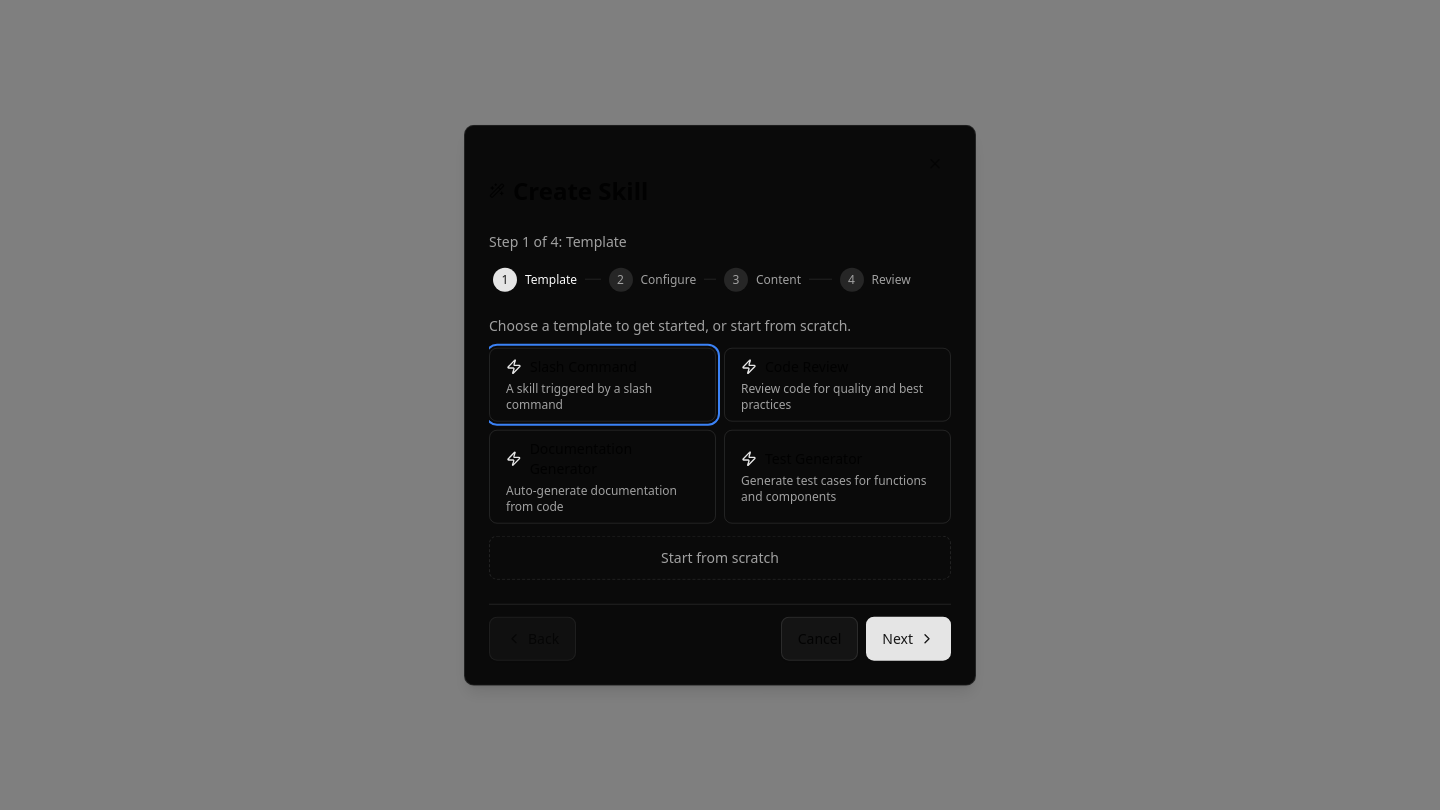
Test case: SkillCreationWizard › should show Create Skill button on review step
Note: Navigate to review
Step 1. Click the button "Start from scratch" → click(720, 557), box [489, 535, 951, 579]
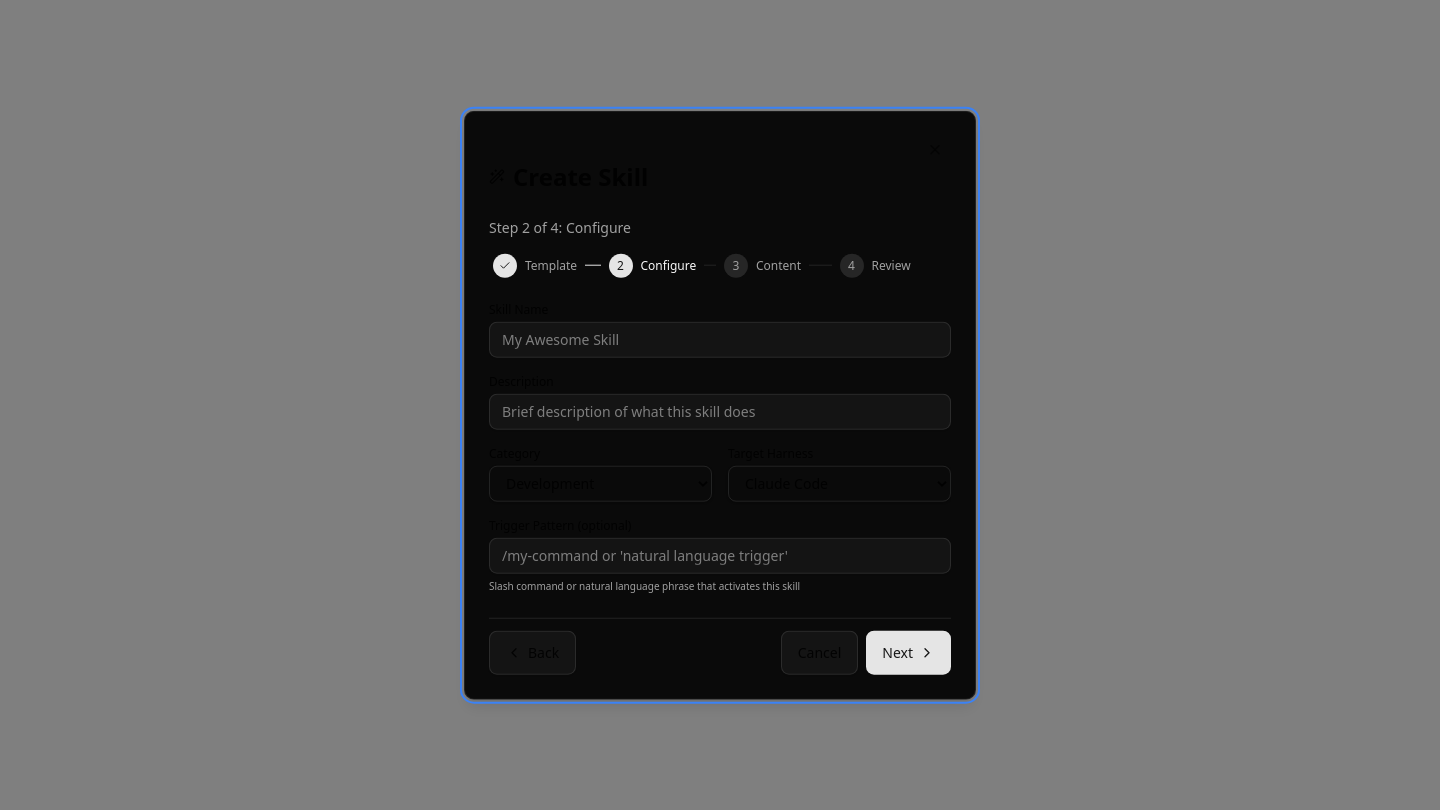
Check: the field labelled "Skill Name" is shown
Step 2. Type "Test" into the field labelled "Skill Name" → (720, 339), box [489, 321, 951, 357]
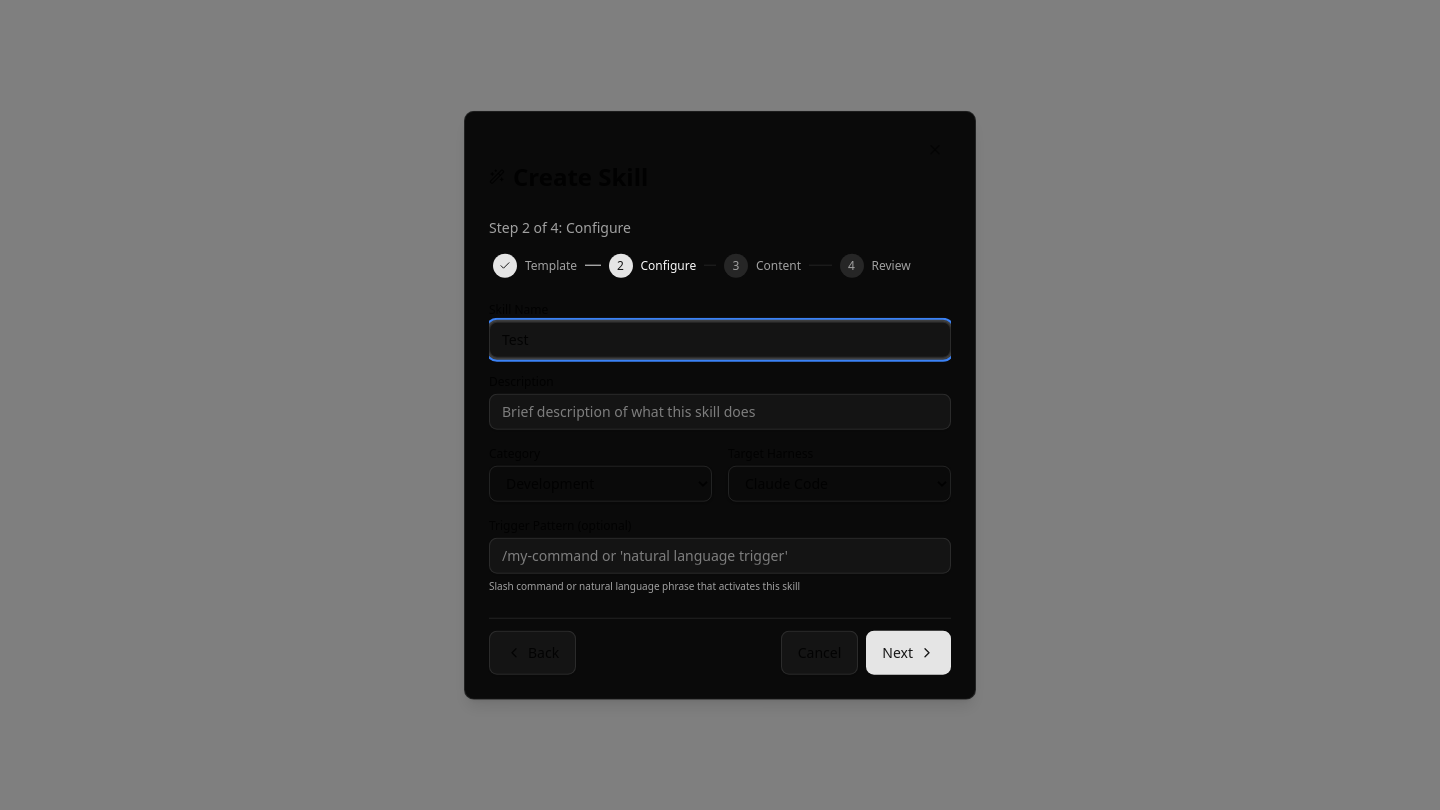
Step 3. Click the button "Next" → click(909, 652), box [866, 630, 951, 674]
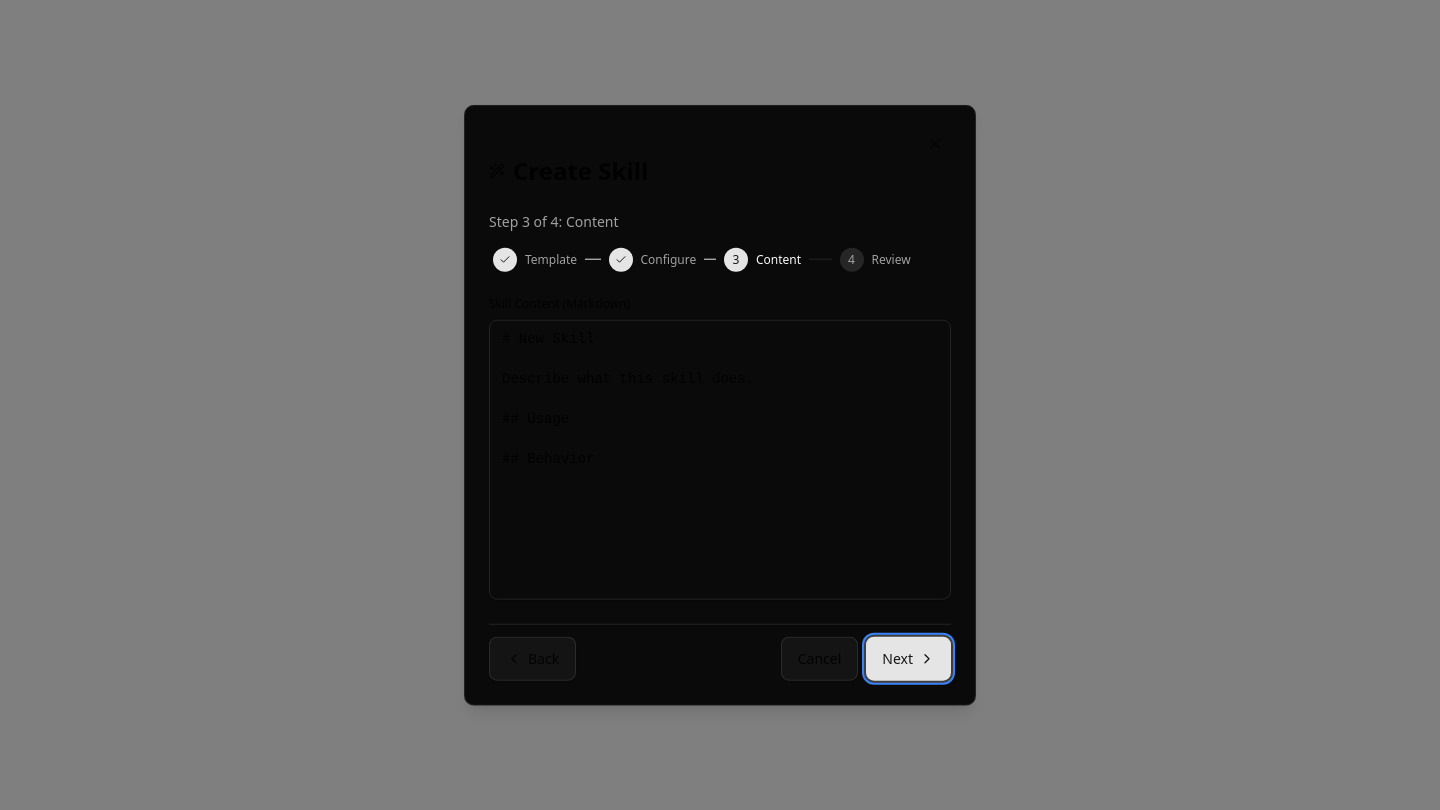
Check: the text box labelled "Skill Content (Markdown)" is shown, box [489, 319, 951, 599]
Step 4. Click the button "Next" → click(909, 658), box [866, 636, 951, 680]
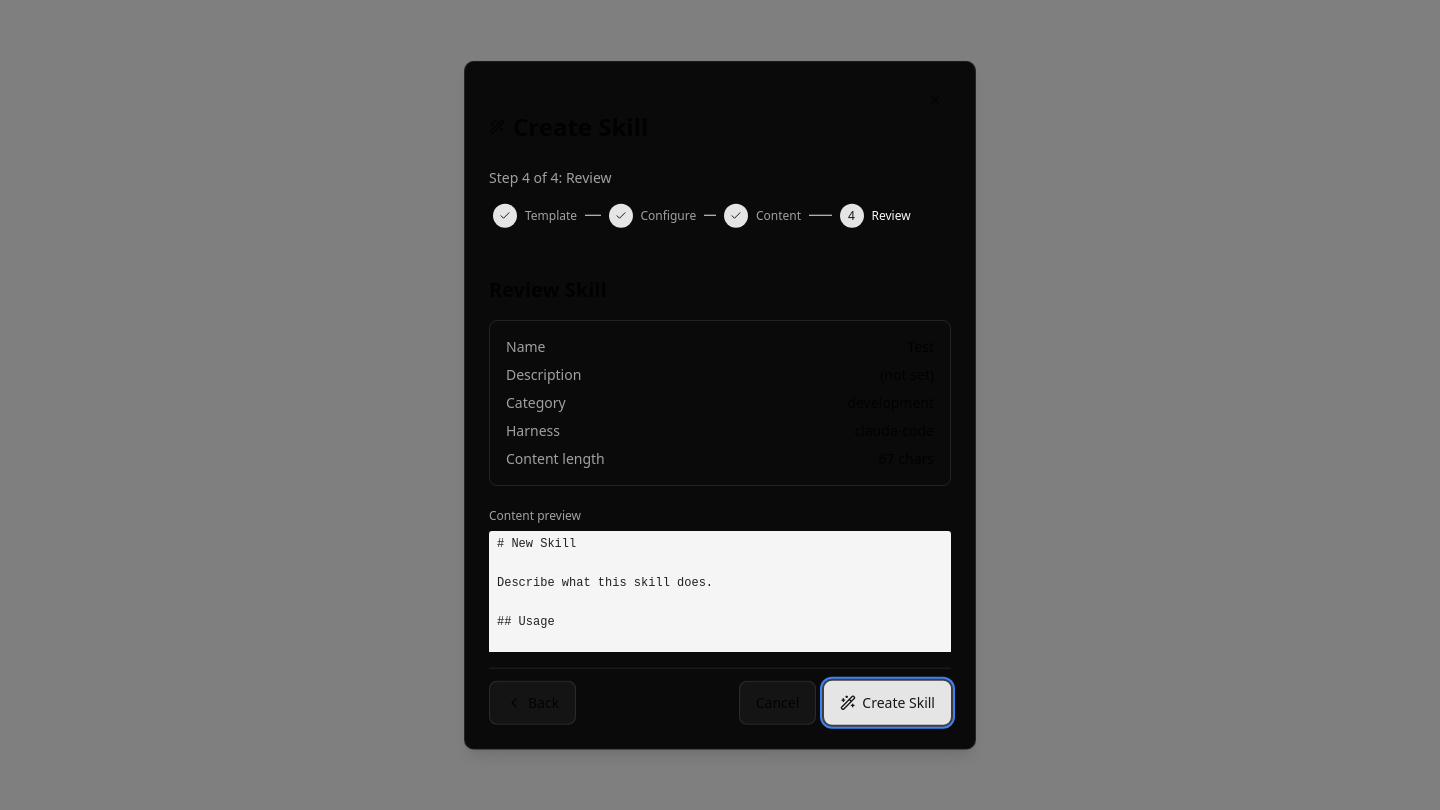
Check: the button "Create Skill" is shown, box [824, 680, 951, 724]
